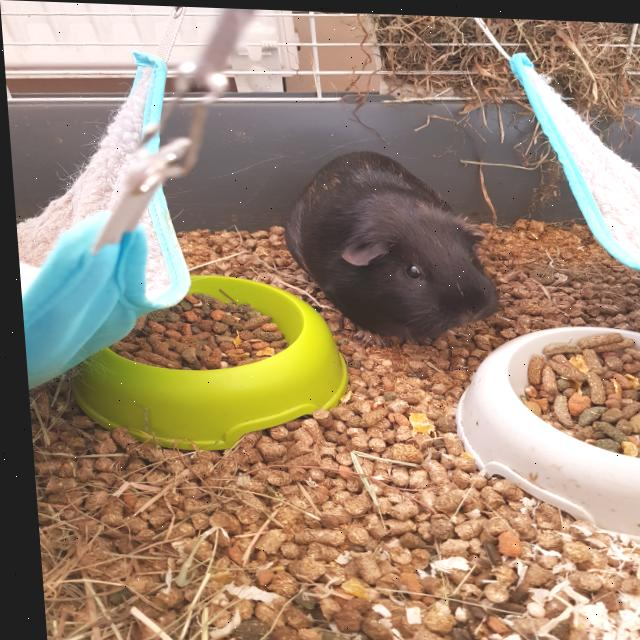guinea pig: (270, 146, 501, 346)
